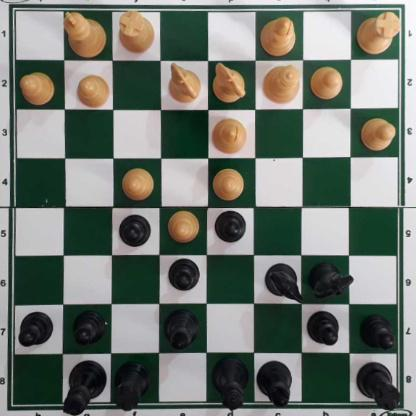black-bishop: (258, 363, 294, 411), (165, 310, 198, 351)
black-king: (65, 360, 107, 415)
black-knight: (310, 264, 350, 302), (265, 266, 304, 304)
black-pawn: (18, 311, 54, 349), (360, 316, 396, 351), (168, 260, 202, 294), (215, 211, 248, 246), (73, 314, 105, 349), (119, 215, 151, 250), (310, 312, 340, 349)
black-queen: (211, 361, 251, 412)
black-rook: (356, 361, 403, 413), (114, 362, 152, 413)
white-bishop: (262, 16, 298, 58), (213, 120, 248, 156)
white-king: (63, 9, 106, 59)
white-knight: (213, 64, 248, 102), (169, 65, 203, 104)
white-pawn: (312, 67, 346, 102), (21, 74, 57, 107), (78, 74, 111, 110), (361, 119, 396, 152), (123, 169, 156, 203), (168, 214, 202, 246), (214, 170, 246, 204)
white-queen: (265, 65, 301, 107)
white-rook: (358, 14, 403, 57), (119, 11, 155, 54)
